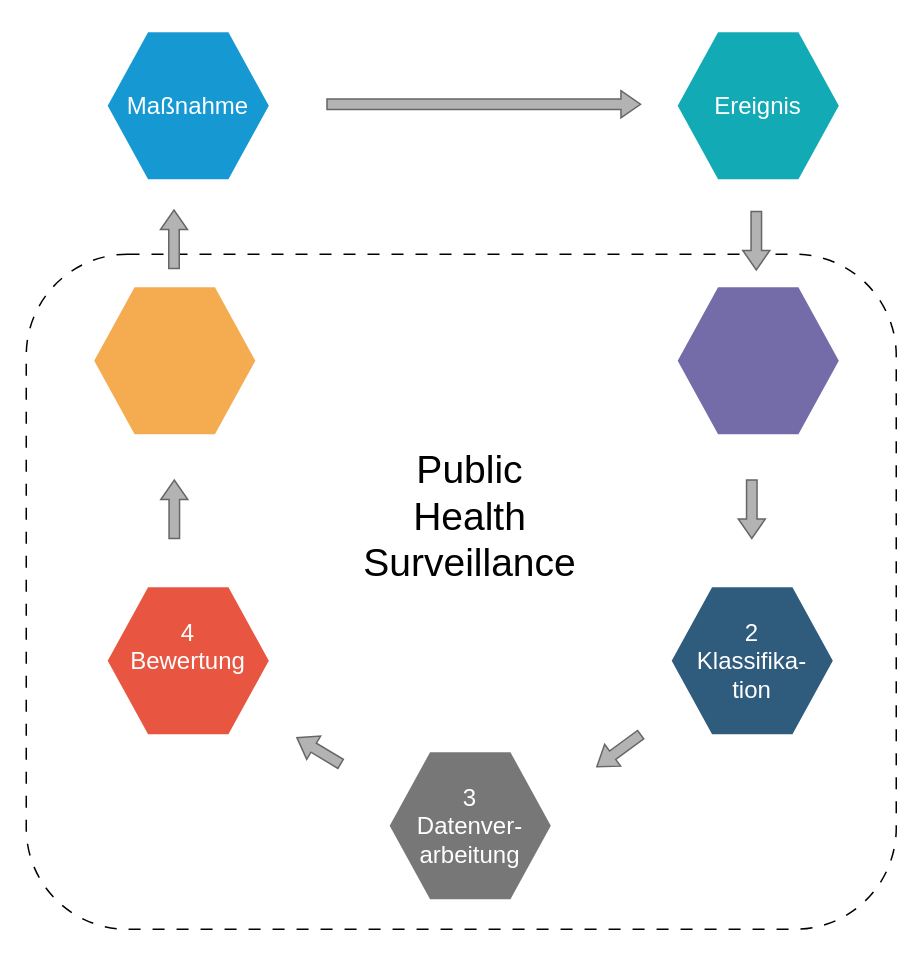
The diagram is 923 pixels wide and 956 high, and some of its shapes have lost their labels. Each missing label, with the centre of its shape:
"1 Erfassung" belongs at (x=757, y=360).
"5 Kommunika-tion" belongs at (x=174, y=360).
